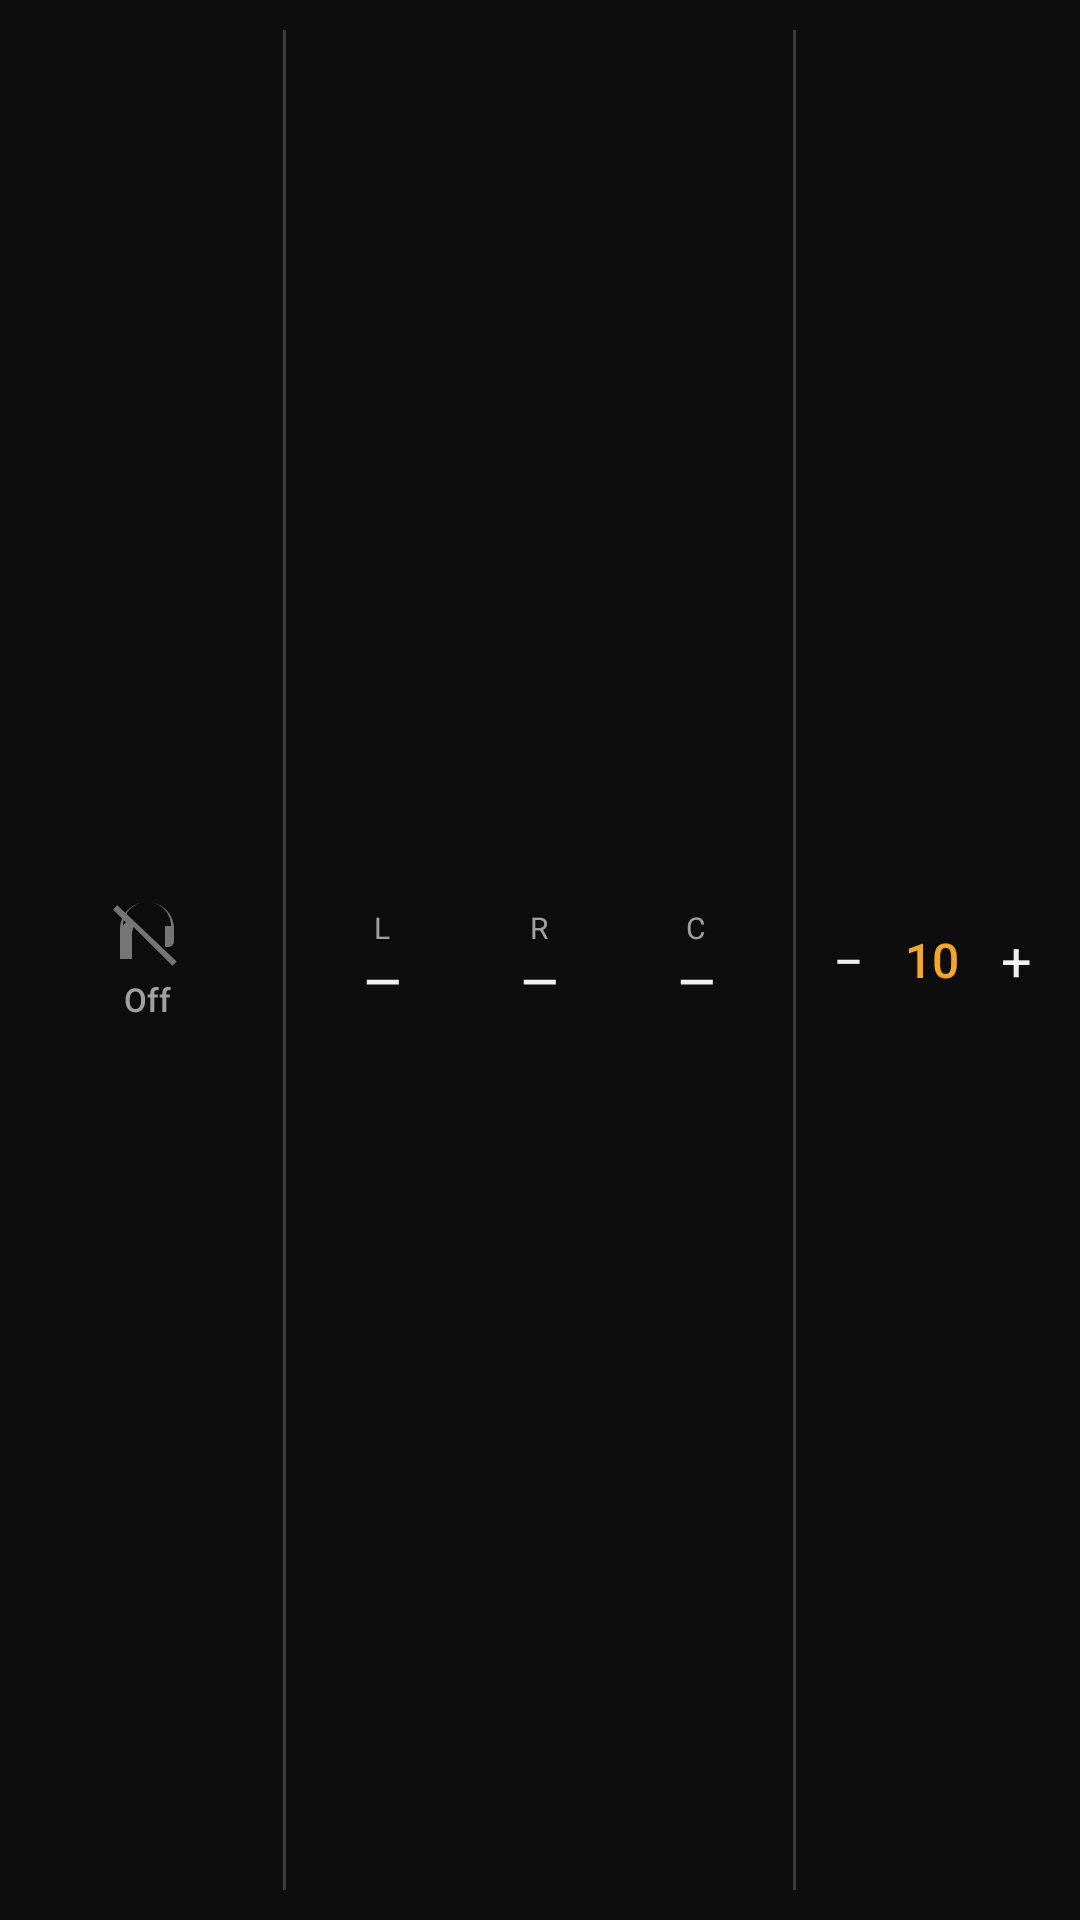

Point at icon controls on the screen. Image size 1080×1920, points as (x,y).
ANC: (145,934)
